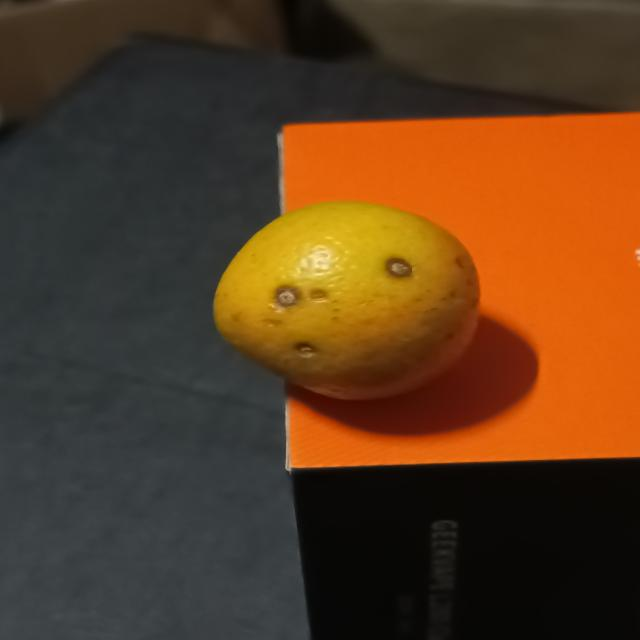black spot: (208, 203, 484, 409)
